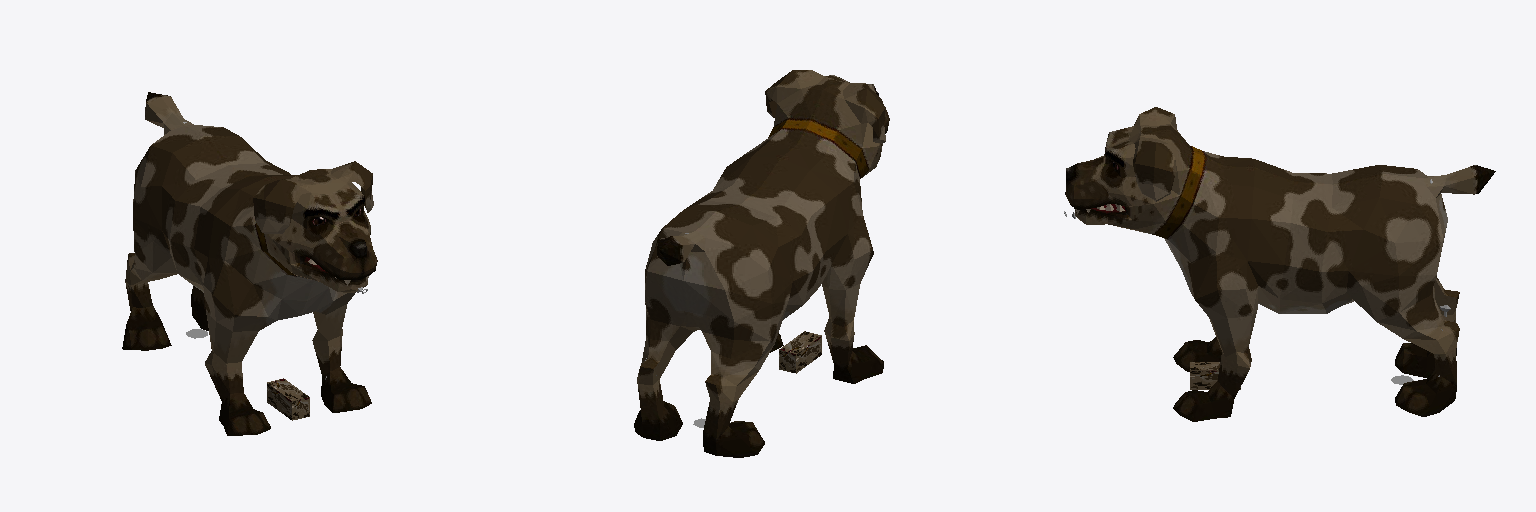
3 renders of one model, left to right at view 1: azimuth 30°, elevation 25°; view 2: azimuth 150°, elevation 25°; view 3: azimuth 270°, elevation 25°, orthographic.
Parts seen in each view (by area): view 1: (null); view 2: (null); view 3: (null).
Part boxes in pixels (left/top/right/bottom): (null): left=122, top=92, right=377, bottom=435; (null): left=634, top=70, right=889, bottom=457; (null): left=1064, top=107, right=1495, bottom=421.
Bounding box in the file's own units: 0.5882 × 0.9965 × 1.49.
Materials: 1 (1 with a texture image).